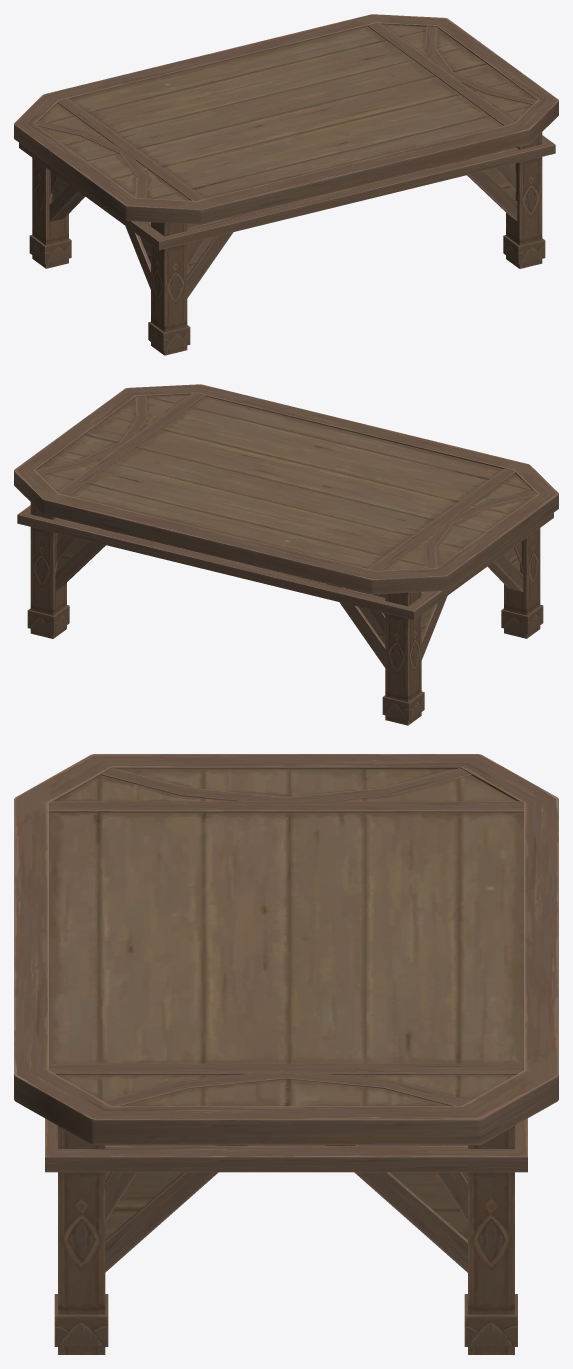
Rendered from Homeworld_Interior_Xm_Table_Prop_Xlyzhuozi_01_Lod0.fbx.
3 views of the same model, one above another, from view 1: azimuth 30°, elevation 25°; view 2: azimuth 150°, elevation 25°; view 3: azimuth 270°, elevation 25° (orthographic). The views are drawn at different scales.
Visible parts, largest first — view 1: Area_Xm_Prop_DCL_Table_01_Lod0; view 2: Area_Xm_Prop_DCL_Table_01_Lod0; view 3: Area_Xm_Prop_DCL_Table_01_Lod0.
Boxes of the visible parts, box(x1,y1,x2,y2) form: Area_Xm_Prop_DCL_Table_01_Lod0: box(14, 14, 558, 355); Area_Xm_Prop_DCL_Table_01_Lod0: box(14, 384, 558, 725); Area_Xm_Prop_DCL_Table_01_Lod0: box(14, 754, 558, 1354).
Size of the model in its own units: 2.34 by 0.77 by 1.47.
